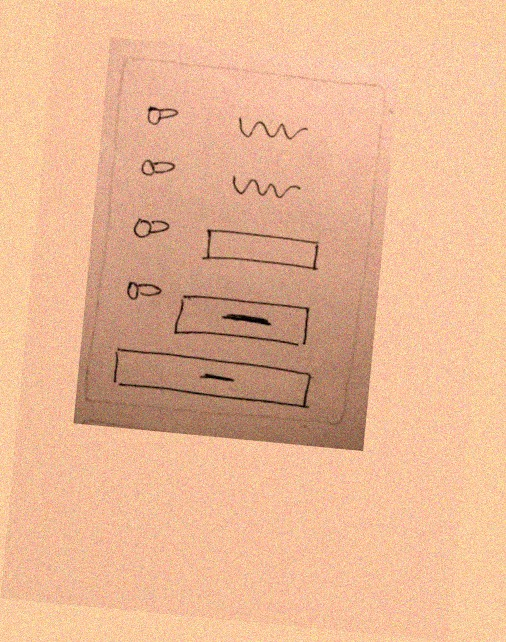button: (105, 343, 318, 415), (169, 288, 317, 356)
switch: (129, 212, 178, 250), (121, 273, 167, 311), (141, 97, 186, 133), (134, 148, 179, 183)
text: (228, 109, 313, 152), (222, 169, 306, 209)
text_input: (196, 222, 329, 282)
